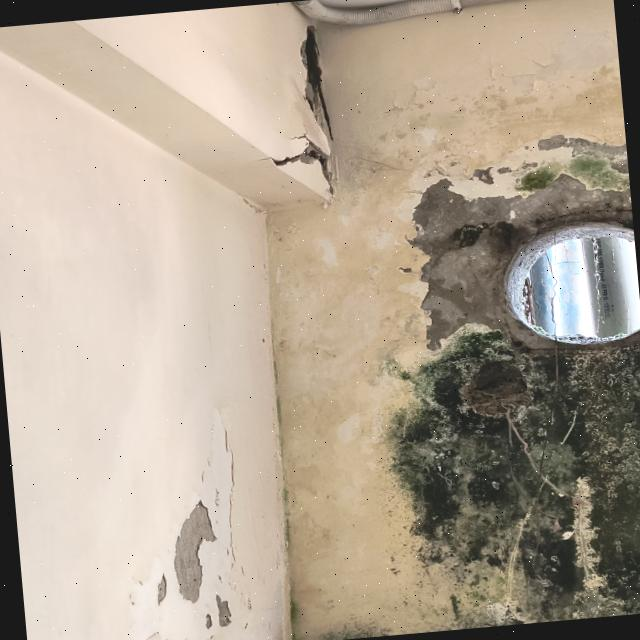peeling: (409, 173, 633, 350), (174, 501, 216, 602), (215, 594, 231, 626)
spalling: (272, 25, 334, 198)
stain_mould: (386, 330, 640, 629), (517, 154, 629, 191)
